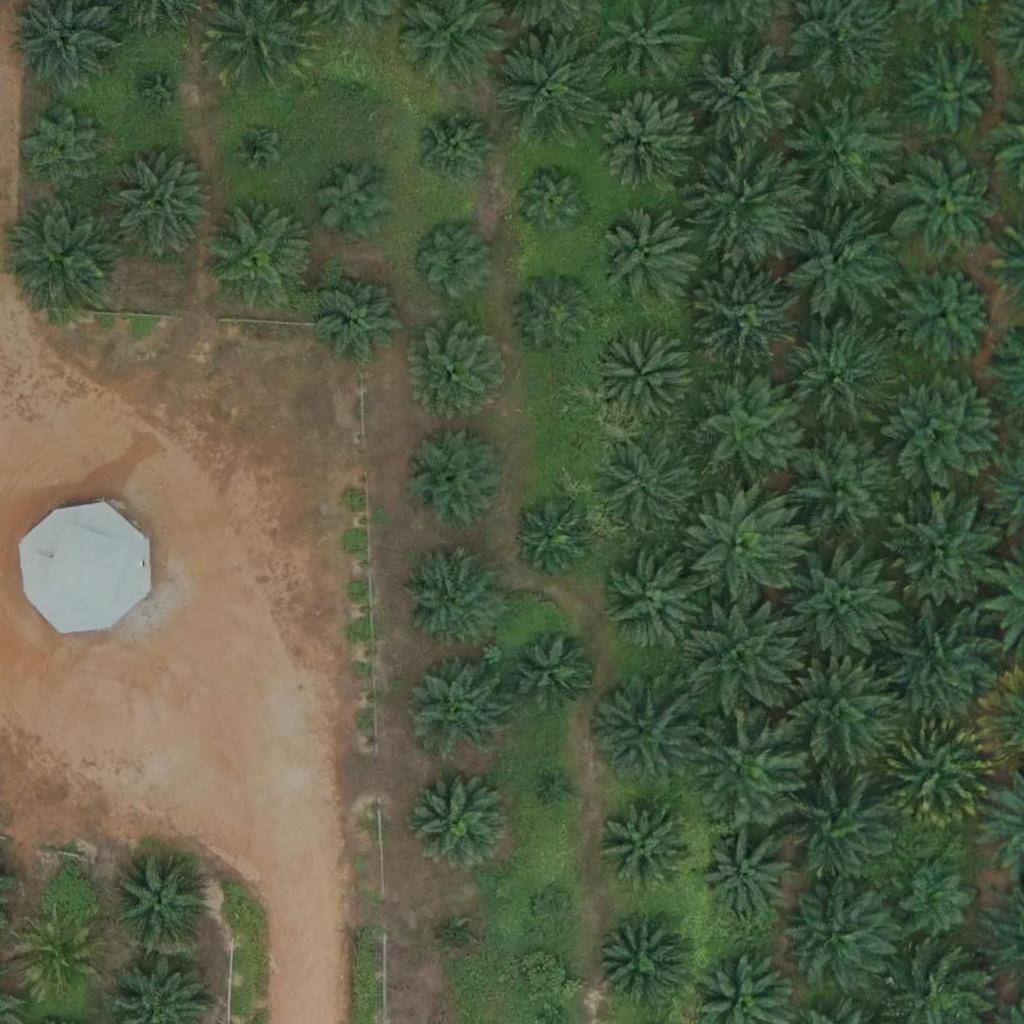Kelapa_Sawit: (492, 24, 605, 138), (587, 675, 700, 789), (10, 200, 123, 313), (691, 146, 804, 259), (692, 263, 805, 376), (788, 94, 901, 207), (785, 208, 898, 321), (779, 319, 892, 432), (787, 434, 900, 547), (887, 374, 1000, 487), (890, 488, 1003, 601), (889, 606, 1002, 719), (880, 716, 993, 829), (689, 39, 801, 153), (202, 200, 314, 314), (687, 603, 799, 717), (781, 773, 893, 887), (785, 876, 897, 990), (690, 709, 802, 823), (103, 150, 215, 263), (687, 372, 799, 485), (686, 493, 798, 606), (789, 545, 901, 658), (892, 148, 1004, 261), (778, 660, 890, 773), (896, 39, 996, 140), (400, 547, 500, 648), (592, 96, 692, 197), (598, 208, 698, 309), (593, 326, 693, 427), (898, 265, 998, 366), (408, 658, 508, 759), (406, 766, 506, 867), (108, 853, 208, 954), (410, 321, 510, 421), (405, 428, 505, 528), (603, 440, 703, 540), (605, 553, 705, 653), (319, 273, 407, 361), (14, 916, 102, 1004), (22, 108, 109, 196), (313, 158, 400, 246), (412, 108, 499, 196), (409, 217, 496, 305), (511, 272, 598, 360), (703, 832, 790, 920), (603, 799, 690, 887), (596, 921, 683, 1009), (509, 628, 596, 716), (516, 500, 591, 576), (898, 860, 973, 936), (514, 164, 589, 239), (137, 66, 187, 117), (231, 122, 281, 173), (328, 59, 378, 109), (534, 891, 572, 929), (547, 776, 572, 801), (443, 926, 468, 951)
